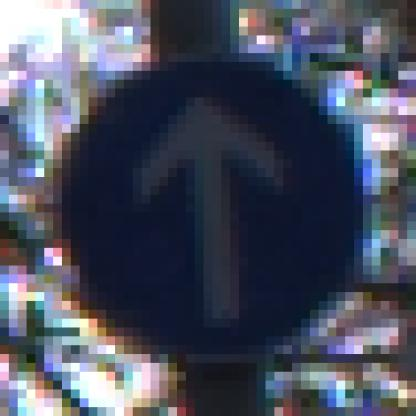AheadOnly: (45, 45, 373, 373)
